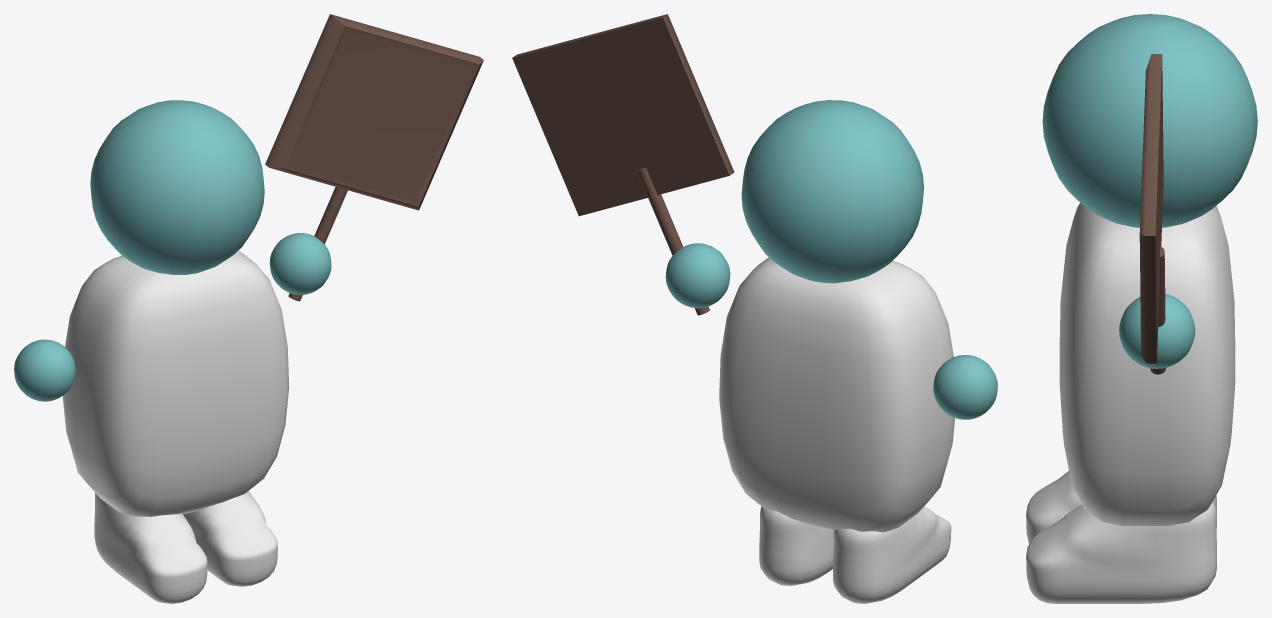
The model's file is Protestor2.fbx.
The picture shows the model from 3 angles, left to right: view 1: azimuth 30°, elevation 25°; view 2: azimuth 150°, elevation 25°; view 3: azimuth 270°, elevation 25°; orthographic projection. The views are drawn at different scales.
Visible parts, largest first — view 1: pasted__pCube1, pCylinder3, pasted__pSphere1, pasted__pCube2, pasted__pasted__pCube2, pasted__pasted__pSphere2, pasted__pSphere2; view 2: pasted__pCube1, pCylinder3, pasted__pSphere1, pasted__pCube2, pasted__pasted__pCube2, pasted__pasted__pSphere2, pasted__pSphere2; view 3: pasted__pCube1, pasted__pSphere1, pasted__pasted__pCube2, pCylinder3, pasted__pSphere2, pasted__pCube2.
Part boxes in pixels (box(x1,y1,x2,y2)): pasted__pCube1: box(62, 250, 289, 516); pCylinder3: box(265, 14, 483, 301); pasted__pSphere1: box(90, 100, 264, 274); pasted__pCube2: box(94, 493, 207, 603); pasted__pasted__pCube2: box(183, 491, 277, 586); pasted__pasted__pSphere2: box(14, 339, 75, 401); pasted__pSphere2: box(269, 233, 331, 294); pasted__pCube1: box(719, 257, 954, 532); pCylinder3: box(512, 14, 734, 315); pasted__pSphere1: box(741, 100, 923, 283); pasted__pCube2: box(833, 506, 951, 603); pasted__pasted__pCube2: box(759, 506, 833, 585); pasted__pasted__pSphere2: box(933, 355, 997, 419); pasted__pSphere2: box(665, 243, 730, 308); pasted__pCube1: box(1059, 202, 1235, 525); pasted__pSphere1: box(1042, 14, 1257, 227); pasted__pasted__pCube2: box(1026, 502, 1216, 603); pCylinder3: box(1139, 54, 1165, 374); pasted__pSphere2: box(1119, 293, 1195, 368); pasted__pCube2: box(1026, 471, 1216, 543).
Size of the model in its own units: 3.83 by 1.36 by 4.01.
